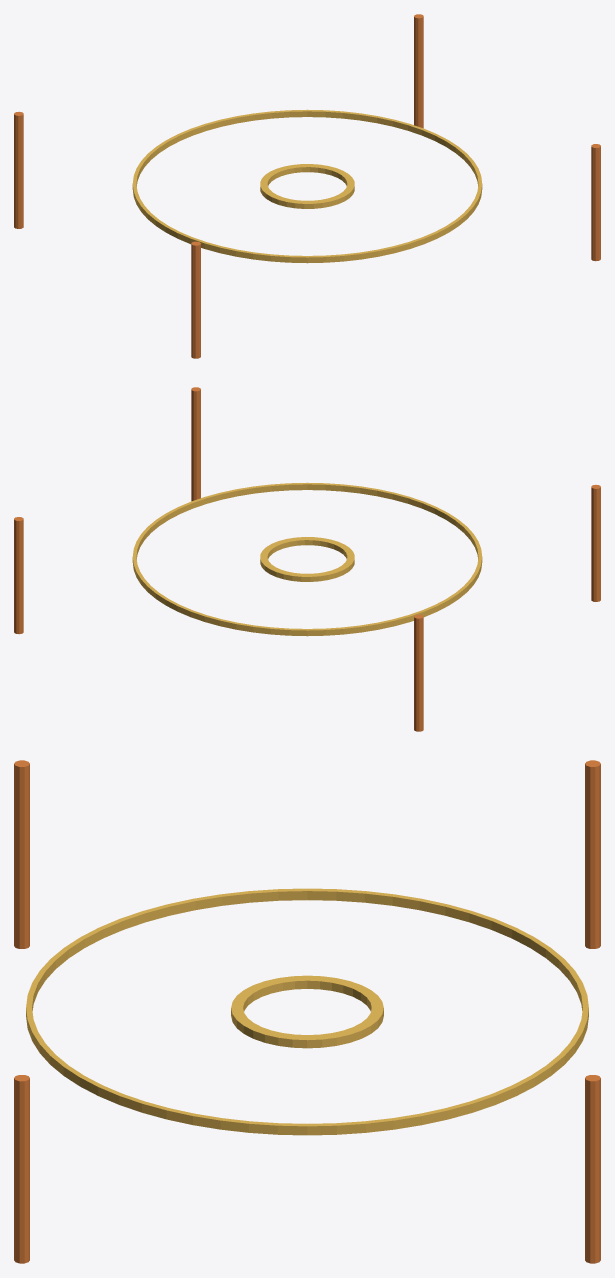
File: 10_L82_ConductiveSeamGasketSet.fbx
3 views of the same model, one above another, from view 1: azimuth 30°, elevation 25°; view 2: azimuth 150°, elevation 25°; view 3: azimuth 270°, elevation 25° (orthographic). The views are drawn at different scales.
Visible parts, largest first — view 1: ConductiveSeamGasketSet, ConductiveSeamGasketSet_Part_0005; view 2: ConductiveSeamGasketSet, ConductiveSeamGasketSet_Part_0005; view 3: ConductiveSeamGasketSet, ConductiveSeamGasketSet_Part_0005.
Boxes of the visible parts, x1,y1,x2,y2 form: ConductiveSeamGasketSet: [14, 14, 600, 358]; ConductiveSeamGasketSet_Part_0005: [260, 164, 354, 208]; ConductiveSeamGasketSet: [14, 387, 600, 731]; ConductiveSeamGasketSet_Part_0005: [260, 537, 354, 581]; ConductiveSeamGasketSet: [14, 760, 600, 1263]; ConductiveSeamGasketSet_Part_0005: [231, 975, 383, 1048].
Bounding box in the file's own units: 378 × 100 × 292.
